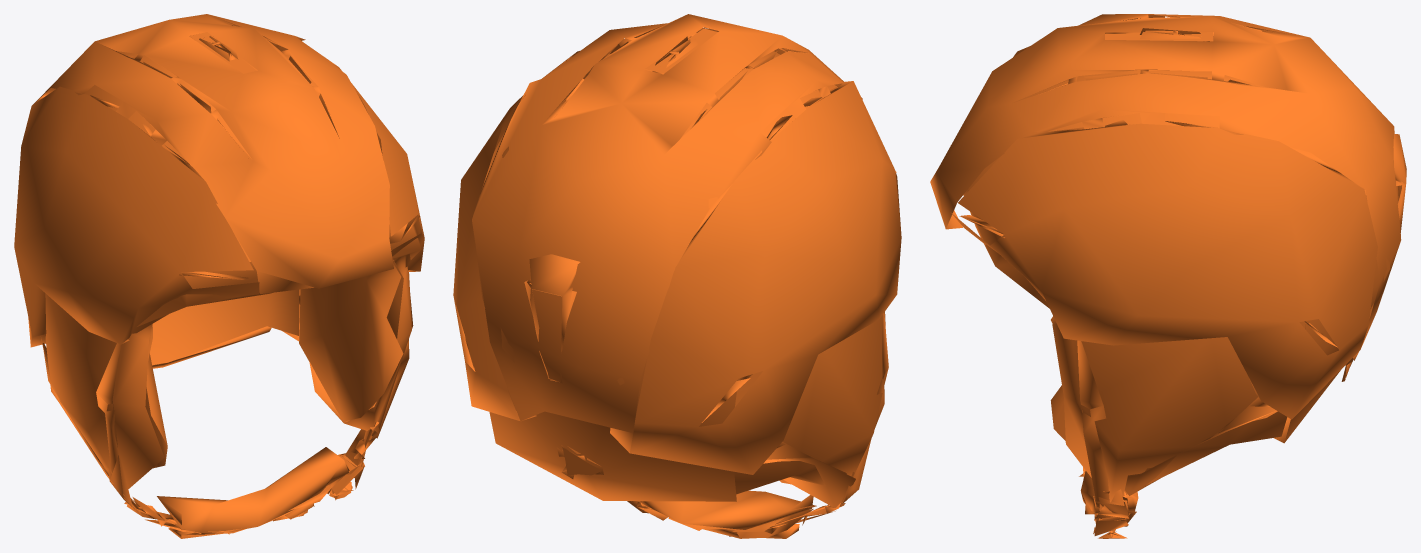
File: casco.obj
The picture shows the model from 3 angles, left to right: view 1: azimuth 30°, elevation 25°; view 2: azimuth 150°, elevation 25°; view 3: azimuth 270°, elevation 25°; orthographic projection. The views are drawn at different scales.
Visible parts, largest first — view 1: Object_8; view 2: Object_8; view 3: Object_8.
Part boxes in pixels (x1,y1,x2,y2): Object_8: (14, 14, 424, 538); Object_8: (453, 14, 901, 538); Object_8: (930, 14, 1406, 538).
Size of the model in its own units: 0.5618 by 0.7399 by 0.6766.
Materials: 1 (1 with a texture image).
